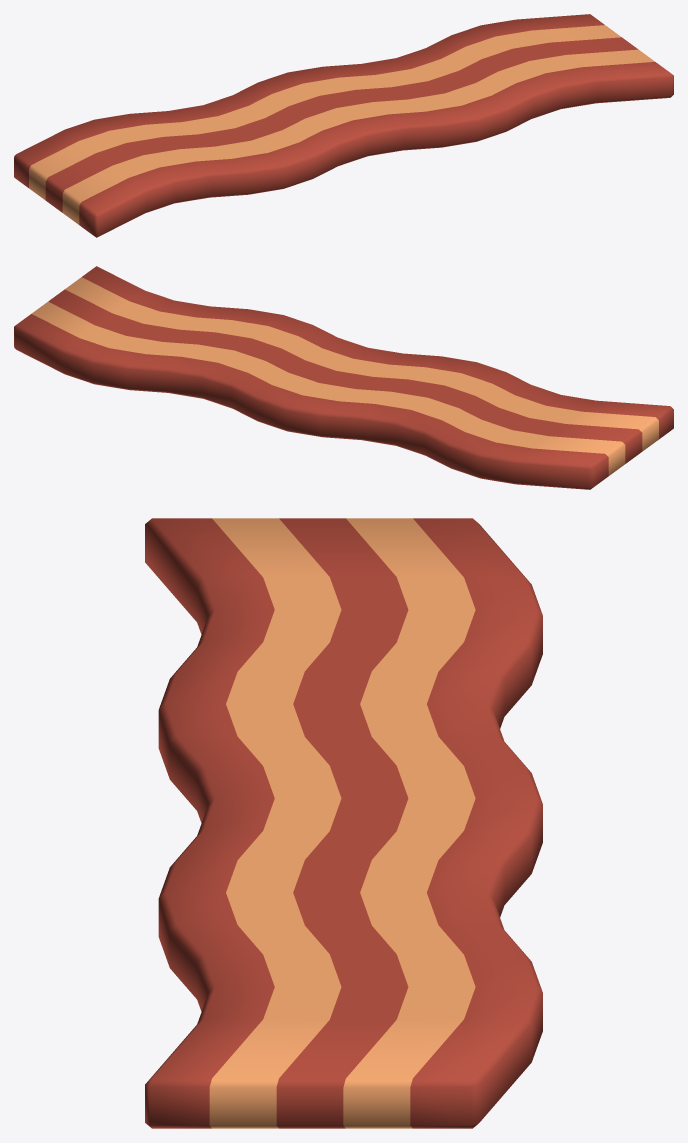
File: Bacon_Hotdog.001.fbx
3 views of the same model, one above another, from view 1: azimuth 30°, elevation 25°; view 2: azimuth 150°, elevation 25°; view 3: azimuth 270°, elevation 25° (orthographic). The views are drawn at different scales.
Visible parts, largest first — view 1: Bacon_Hotdog.001; view 2: Bacon_Hotdog.001; view 3: Bacon_Hotdog.001.
Part boxes in pixels (x1,y1,x2,y2): Bacon_Hotdog.001: (14,14,673,237); Bacon_Hotdog.001: (14,266,673,489); Bacon_Hotdog.001: (145,518,542,1128).
Size of the model in its own units: 129 by 38.27 by 5.32.
